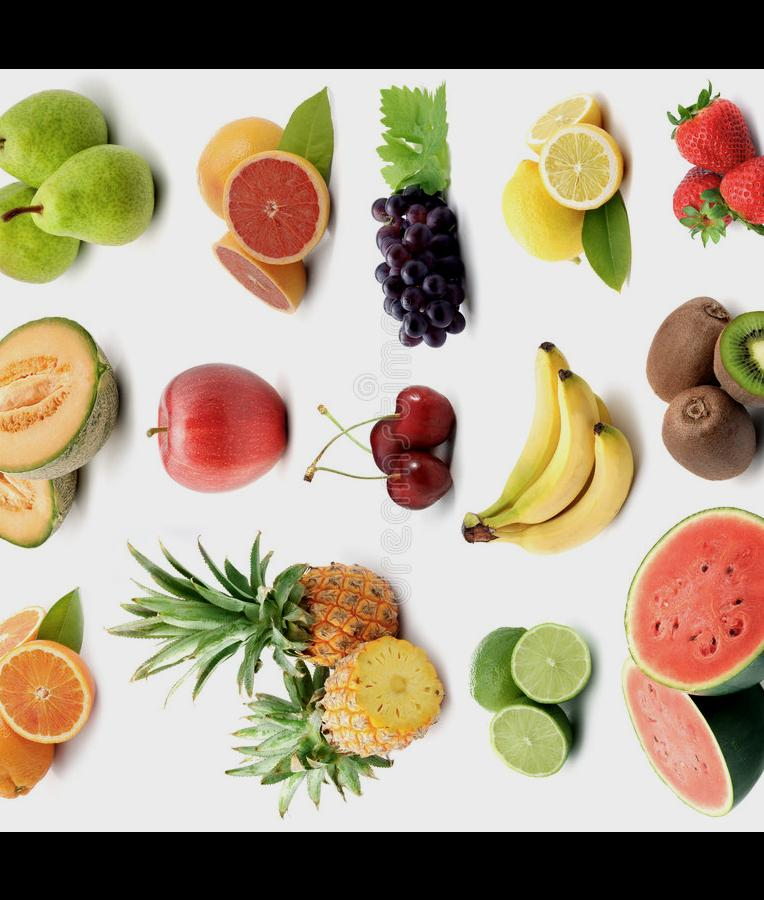chuoi: (462, 334, 642, 554)
